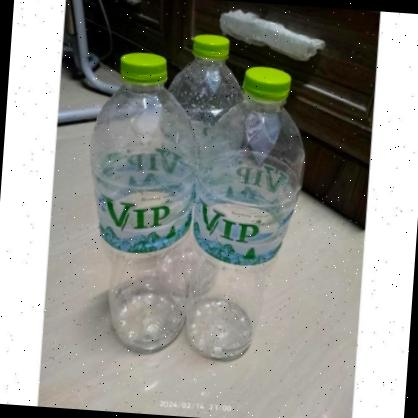bottle: (76, 45, 204, 354), (184, 61, 312, 362)
cap: (118, 49, 170, 89), (242, 64, 294, 104), (188, 33, 234, 64)
label: (192, 152, 302, 267), (85, 148, 197, 250)
